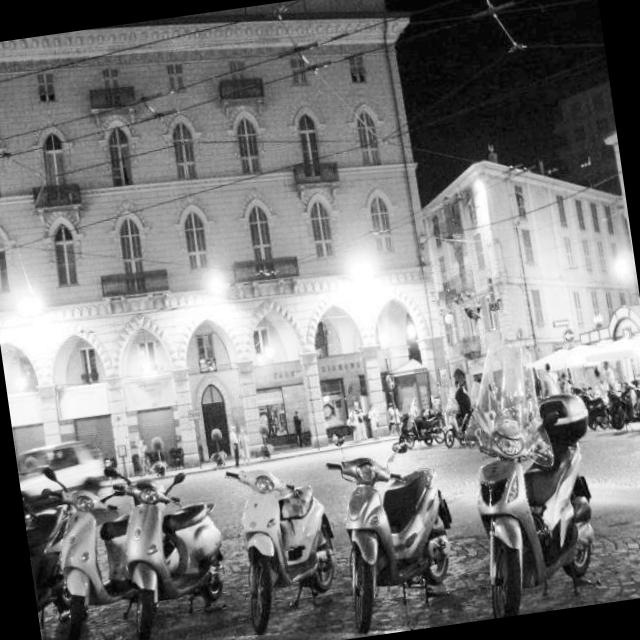Motorcycle: (458, 361, 620, 619), (330, 413, 490, 638), (44, 445, 215, 640), (215, 441, 362, 640), (96, 444, 242, 640), (19, 468, 90, 636), (569, 361, 626, 446), (388, 402, 425, 466), (603, 376, 640, 437), (628, 363, 640, 474)
